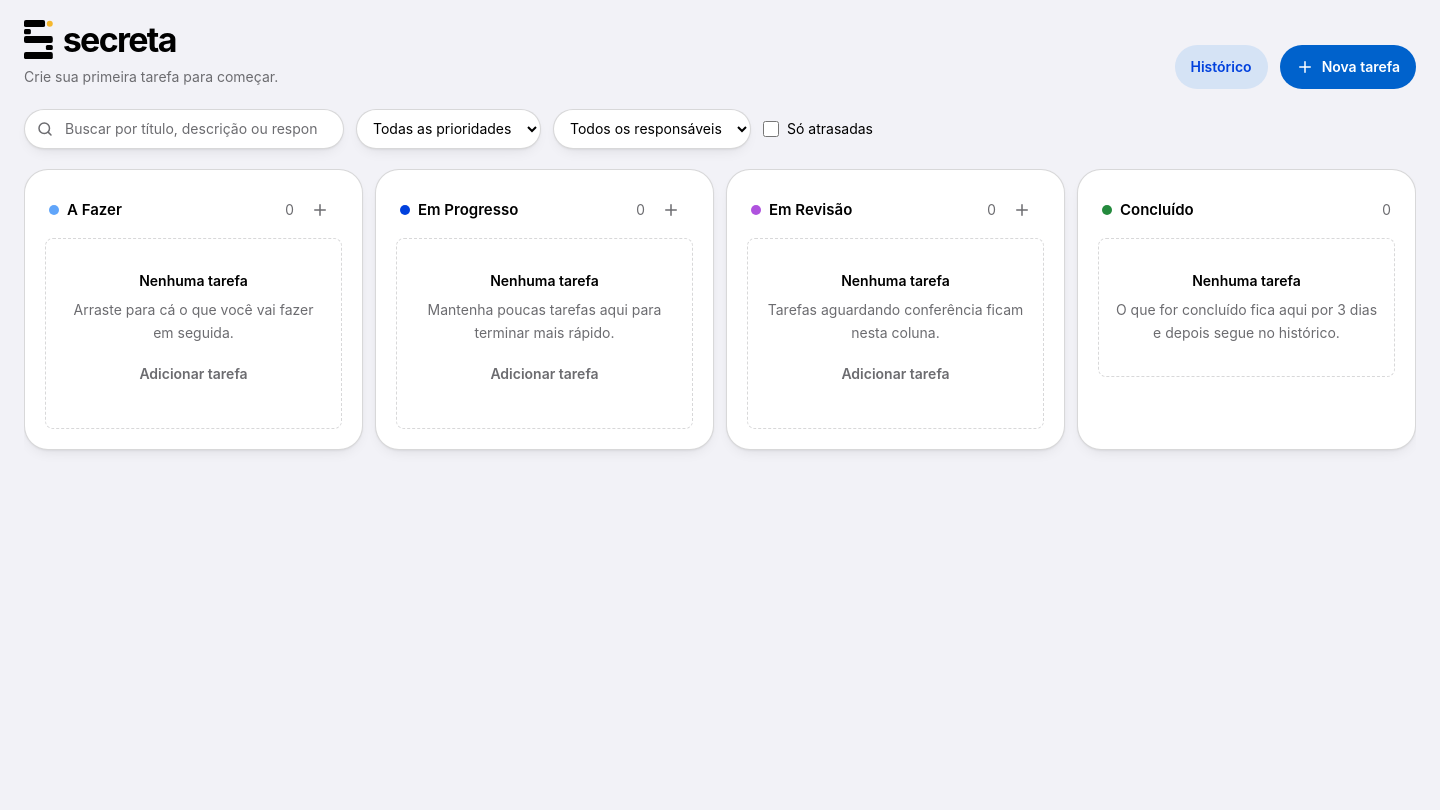
Test case: App › secretário cria uma tarefa com responsável vindo do cadastro
Click the button "Nova tarefa".
click(1348, 67)  # box [1280,45,1416,89]
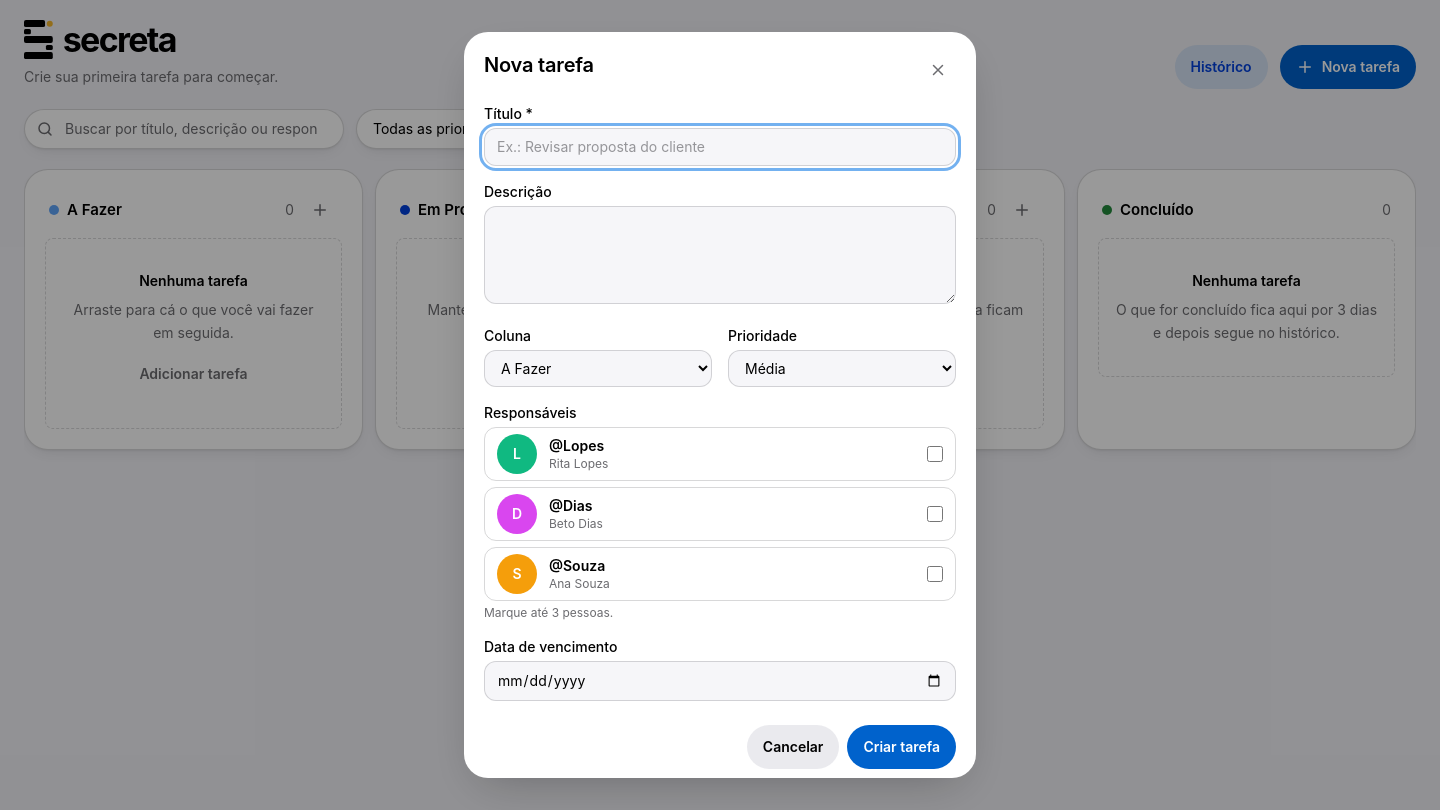
Type "Emitir históricos" into the field labelled "Título *".
click(720, 147); type("Emitir históricos")  # box [484,128,956,166]
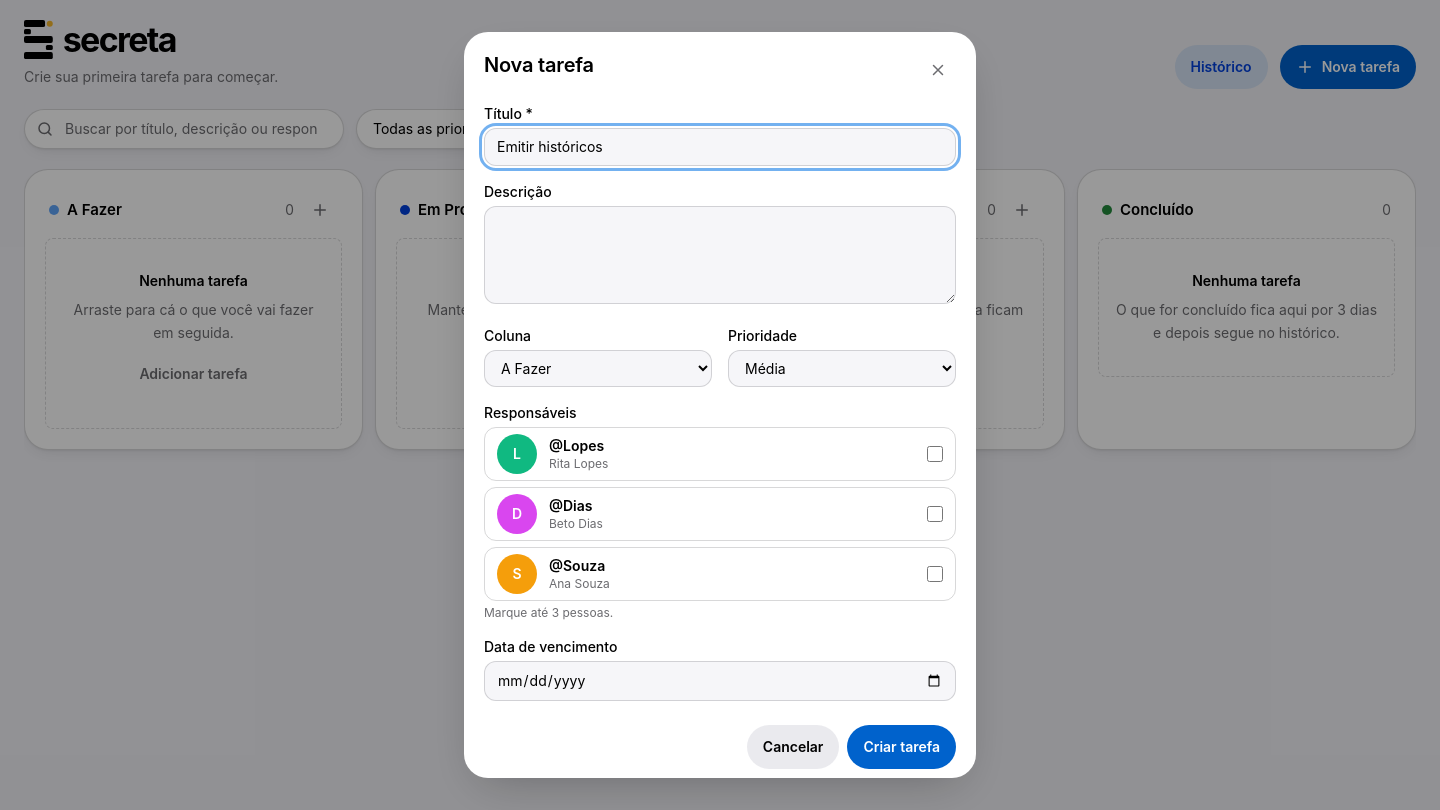
Click the checkbox labelled "@Souza".
click(935, 574)  # box [927,566,943,582]
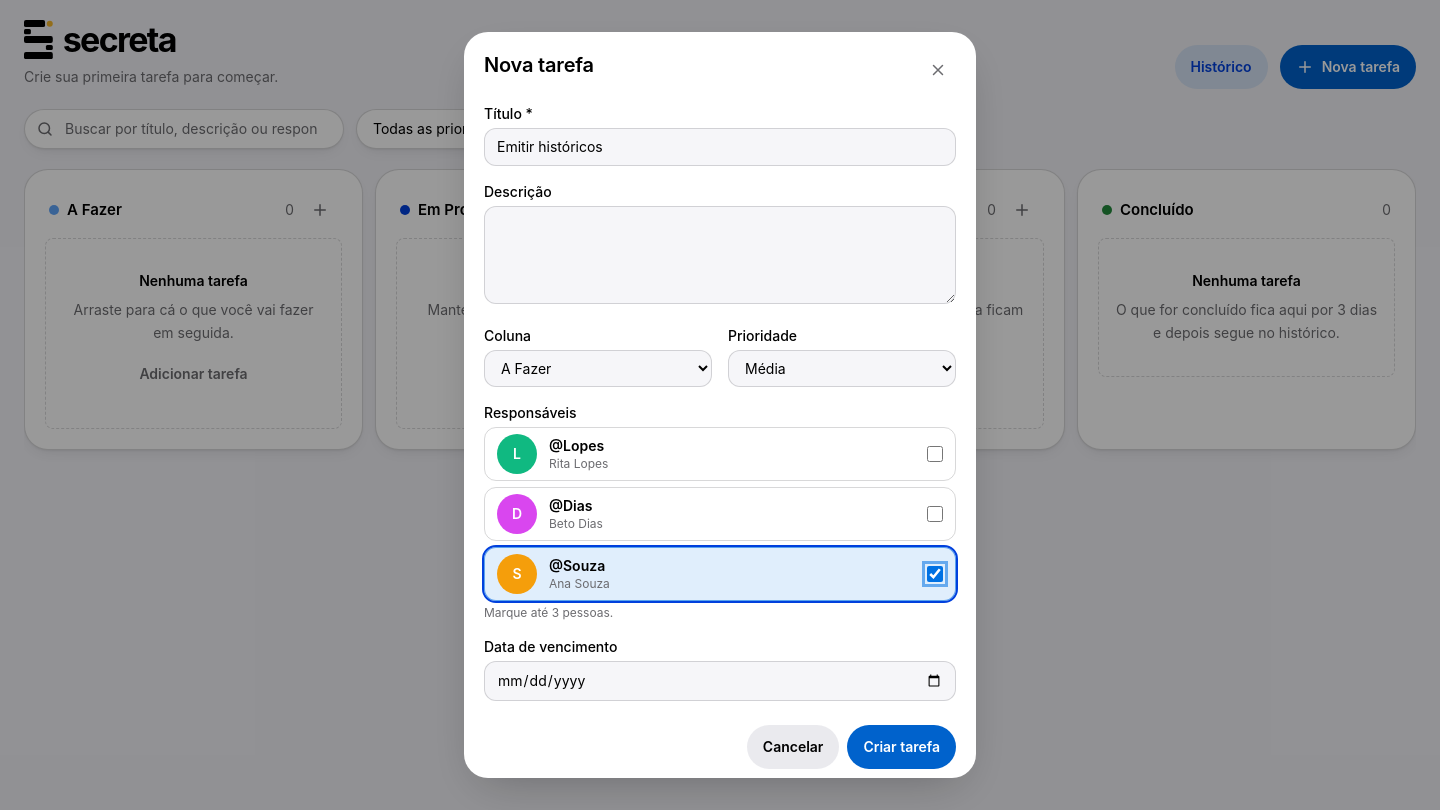
Click the button "Criar tarefa".
click(902, 747)  # box [847,725,956,769]
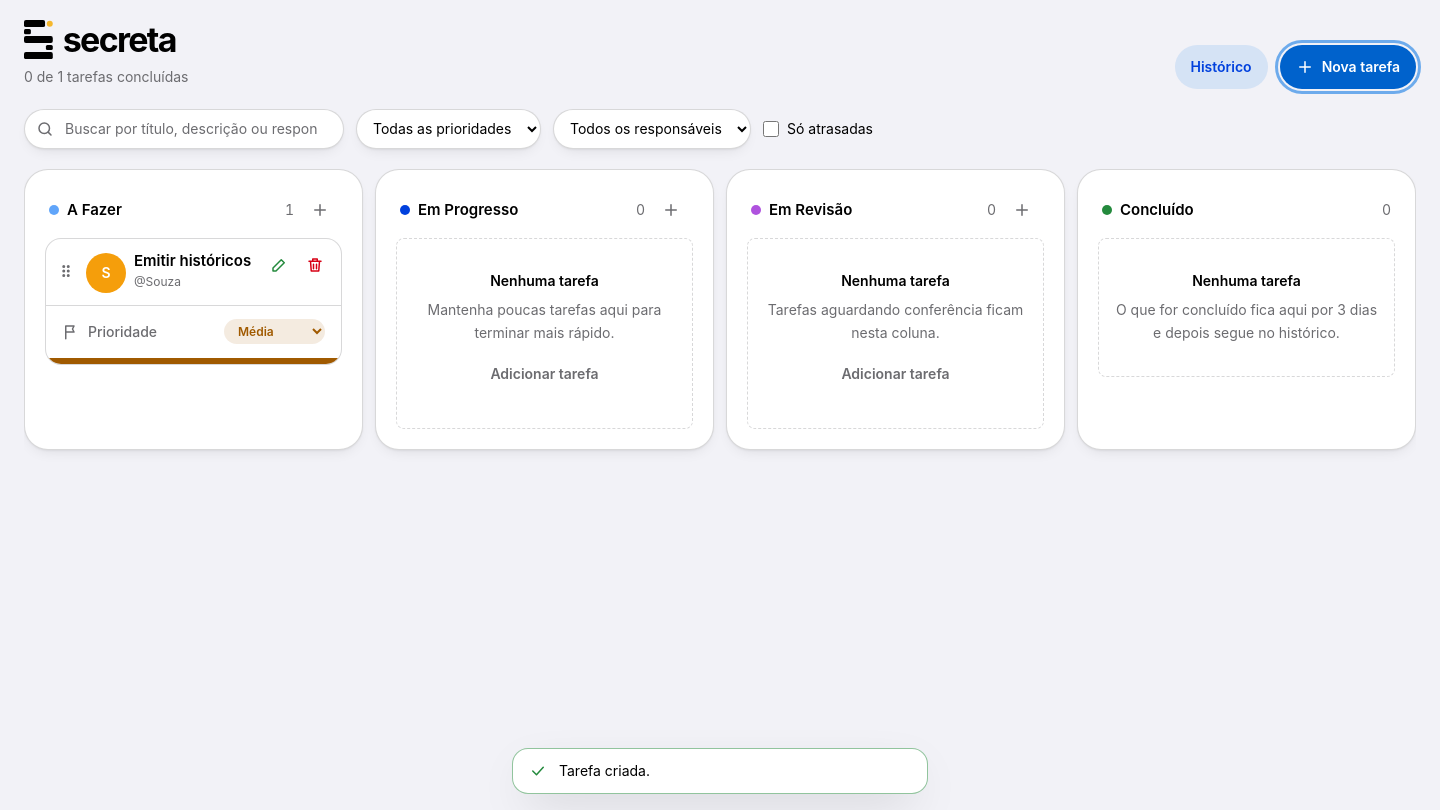
Expected: the list item "@Souza" is shown, [134,274,181,290]
Expected: the element "Emitir históricos" is shown, [45,238,342,365]
Expected: the dialog is gone
